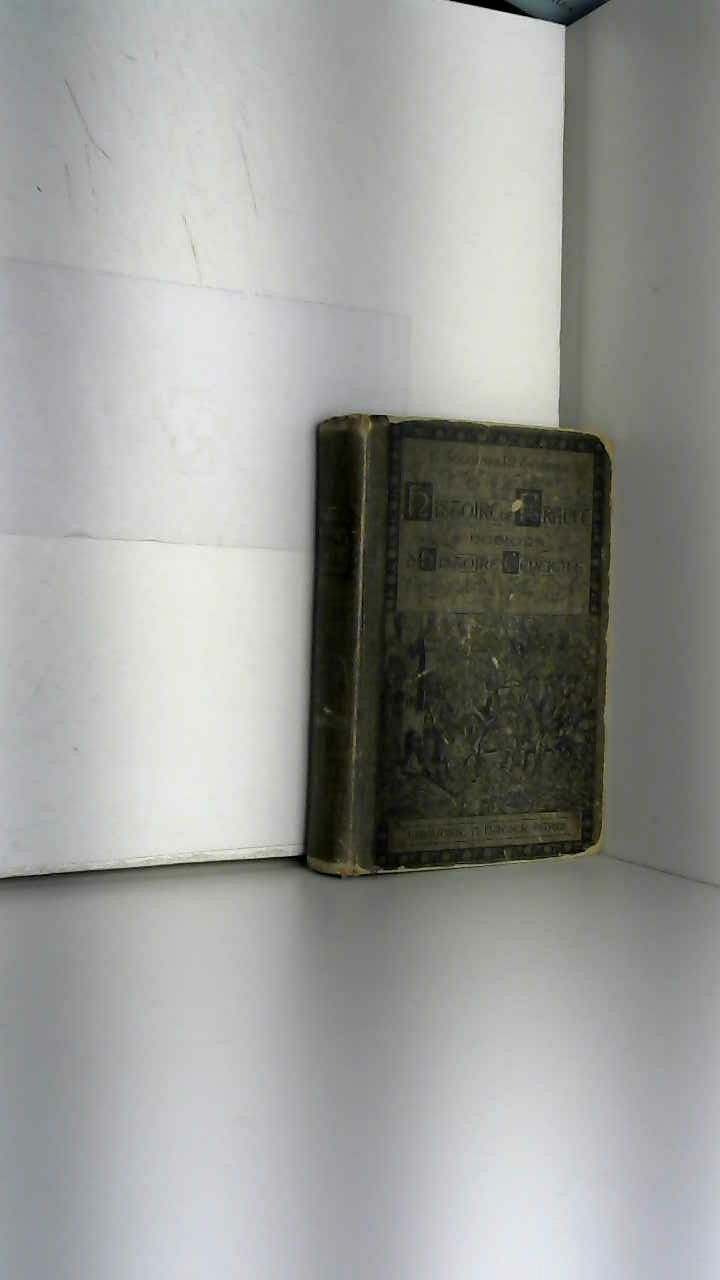book: (266, 379, 646, 908)
